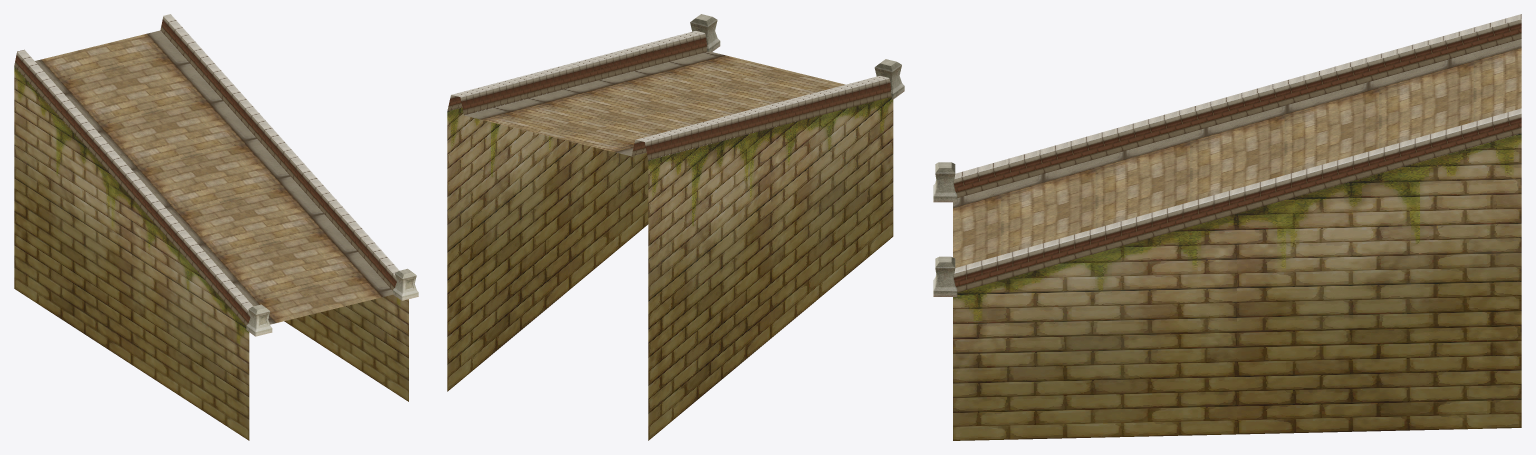
File: obj_masaslope01.glb
The picture shows the model from 3 angles, left to right: view 1: azimuth 30°, elevation 25°; view 2: azimuth 150°, elevation 25°; view 3: azimuth 270°, elevation 25°; orthographic projection. The views are drawn at different scales.
Parts seen in each view (by area): view 1: part_0; view 2: part_0; view 3: part_0.
Part boxes in pixels (x1,y1,x2,y2): part_0: [14, 14, 418, 440]; part_0: [447, 14, 904, 440]; part_0: [933, 14, 1521, 440].
Size of the model in its own units: 13.71 by 17 by 28.97.
4 materials, 4 textured.
